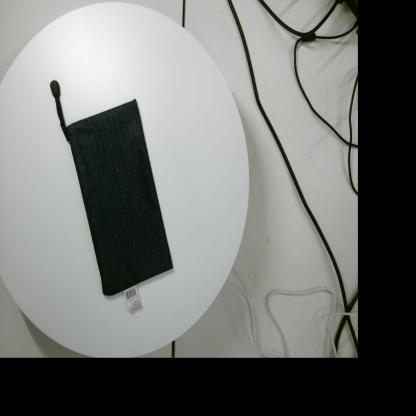Stationery: (50, 80, 173, 315)
